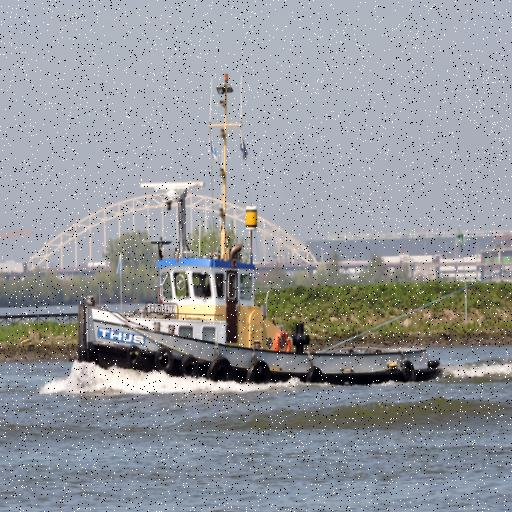tugboat: (74, 70, 447, 396)
